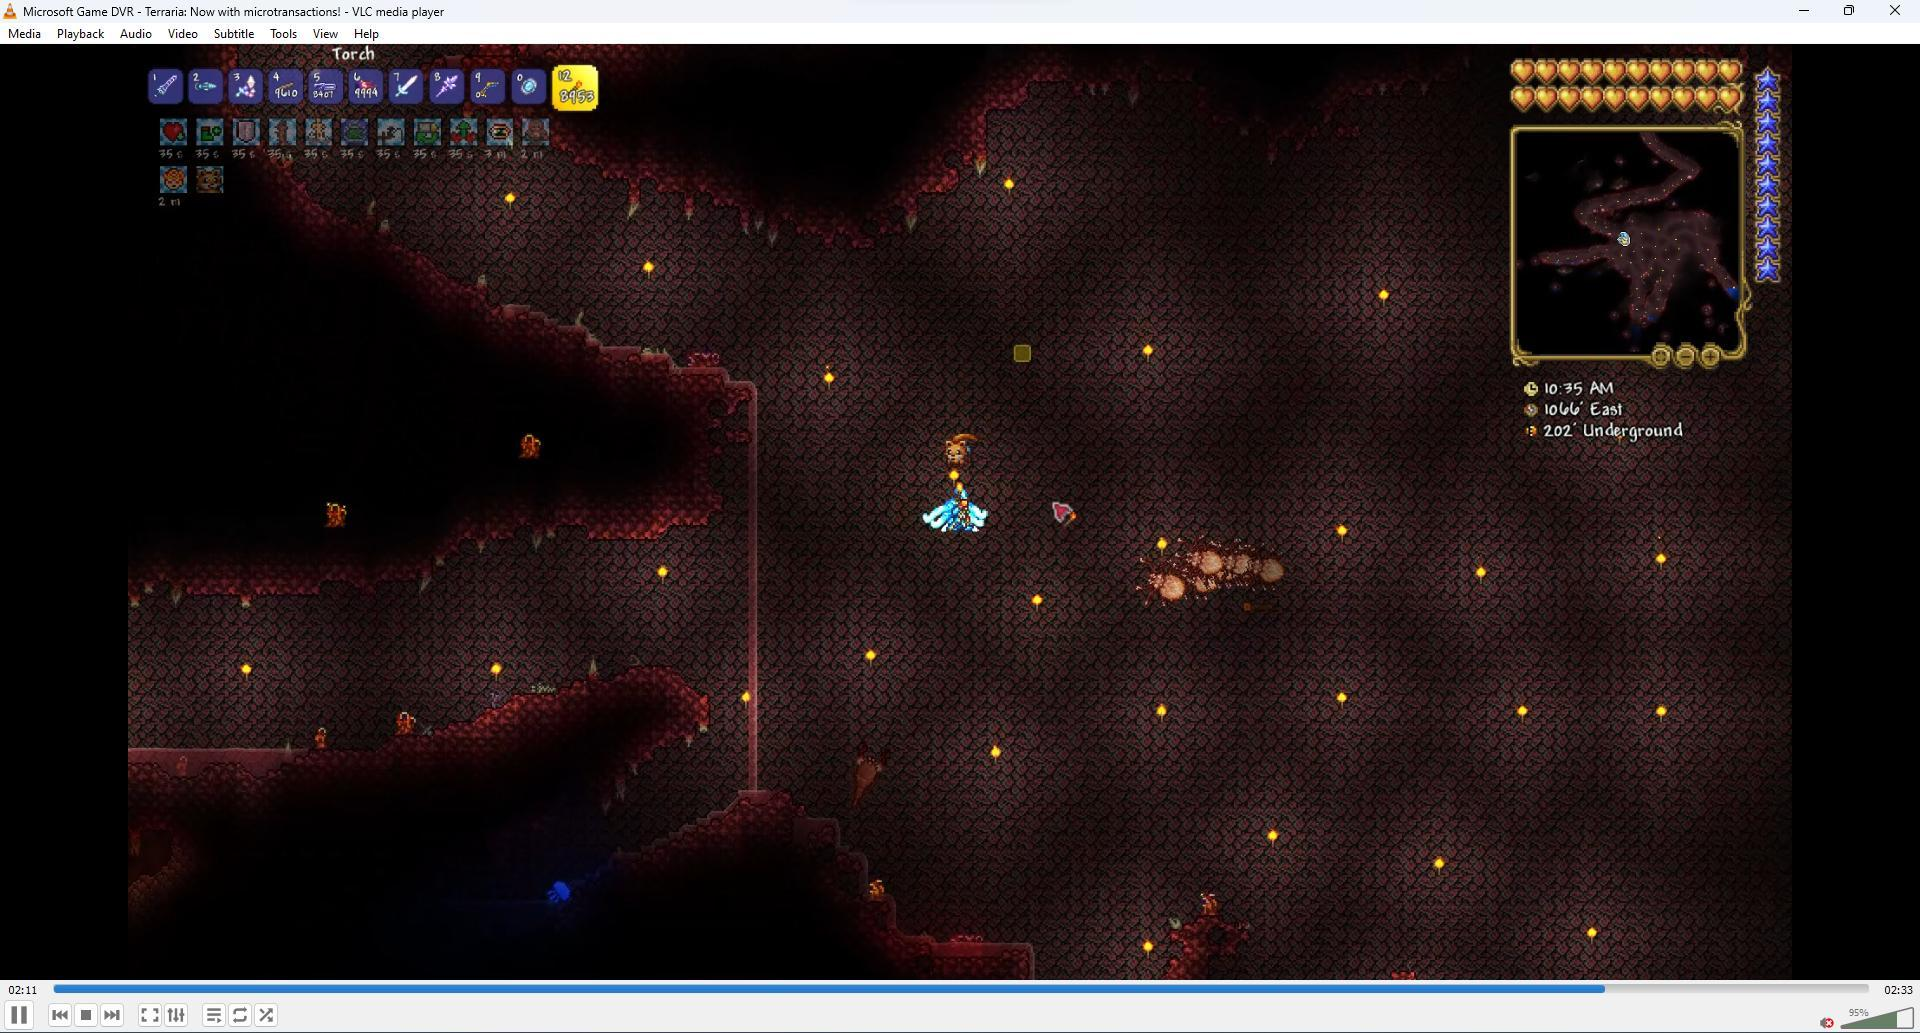spider: (1129, 544, 1190, 609)
